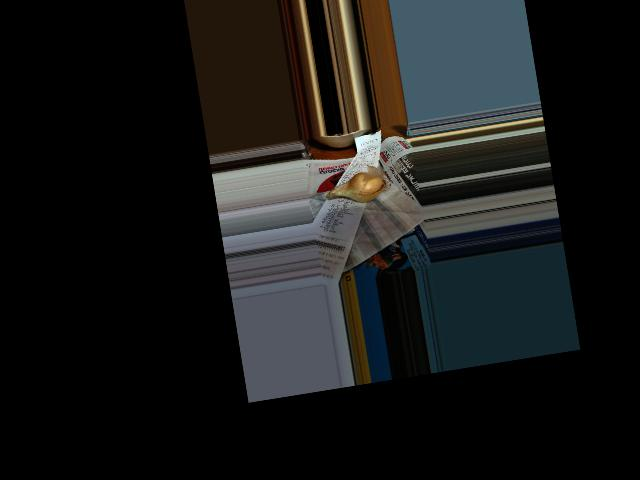onion: (327, 170, 386, 208)
